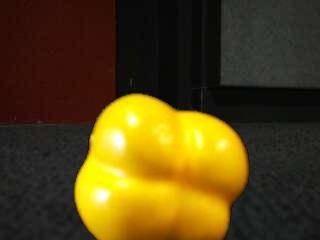Capsicum: (74, 94, 253, 239)
